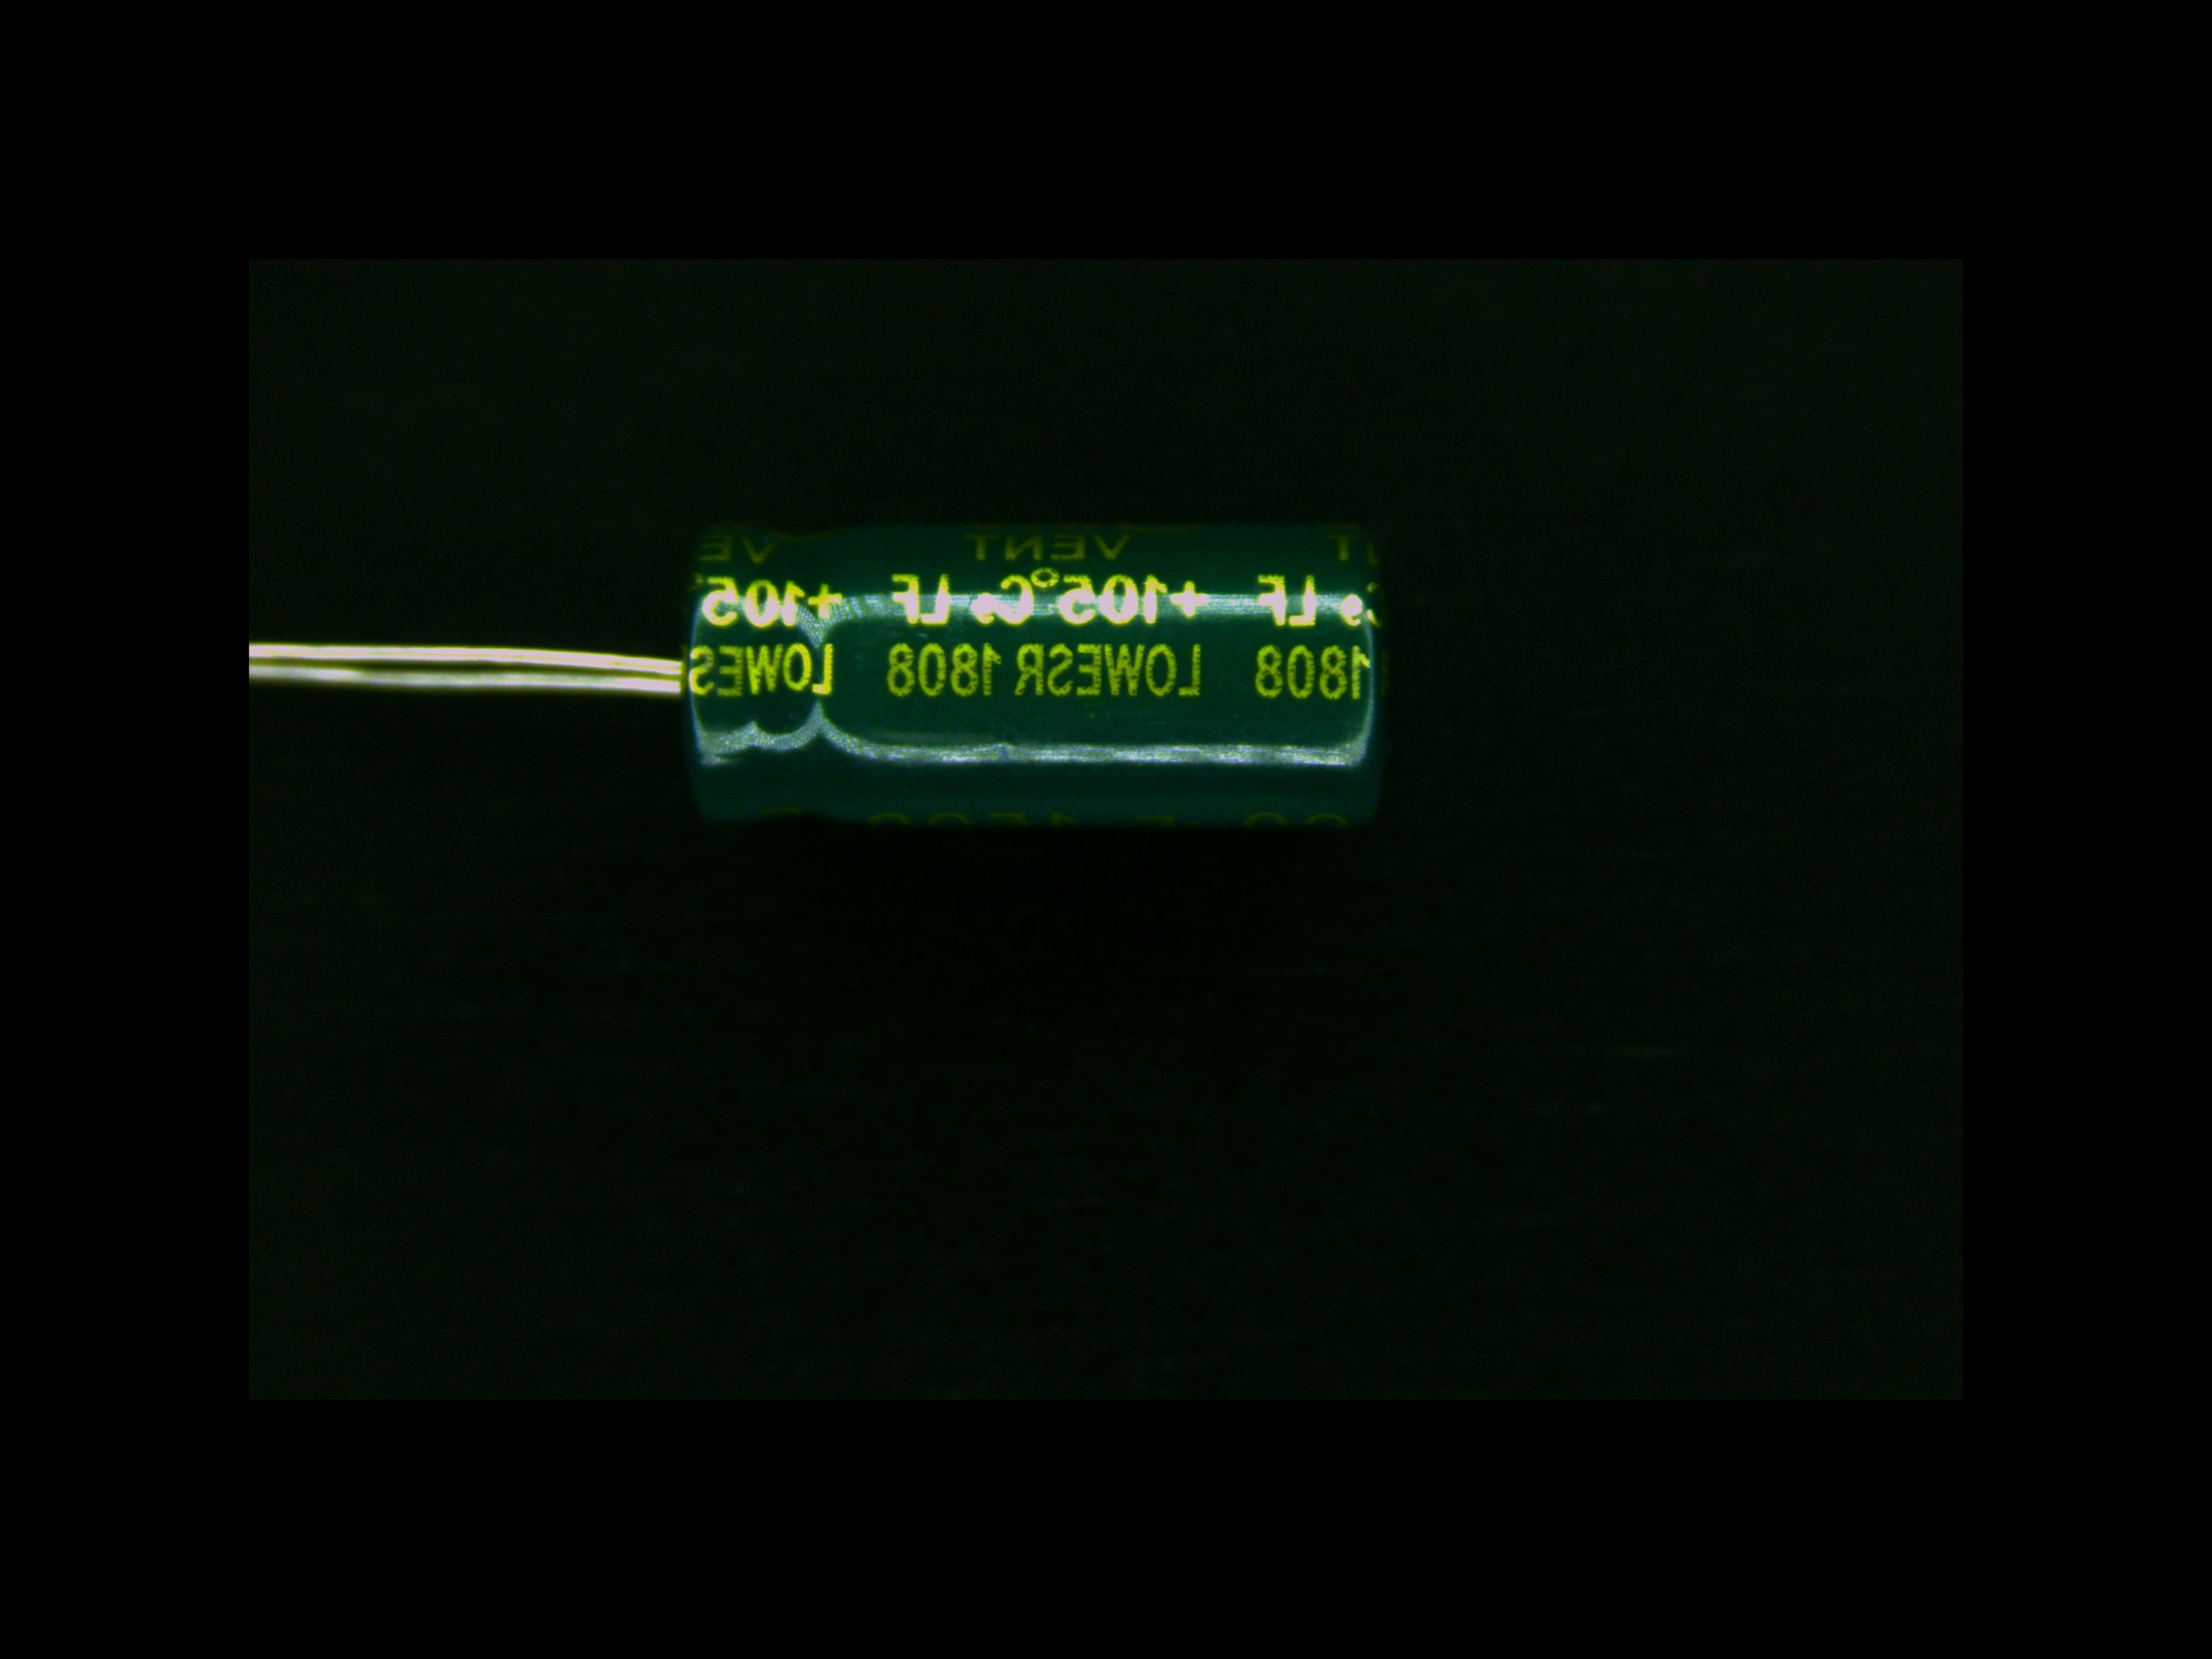c1: (604, 533, 1393, 833)
